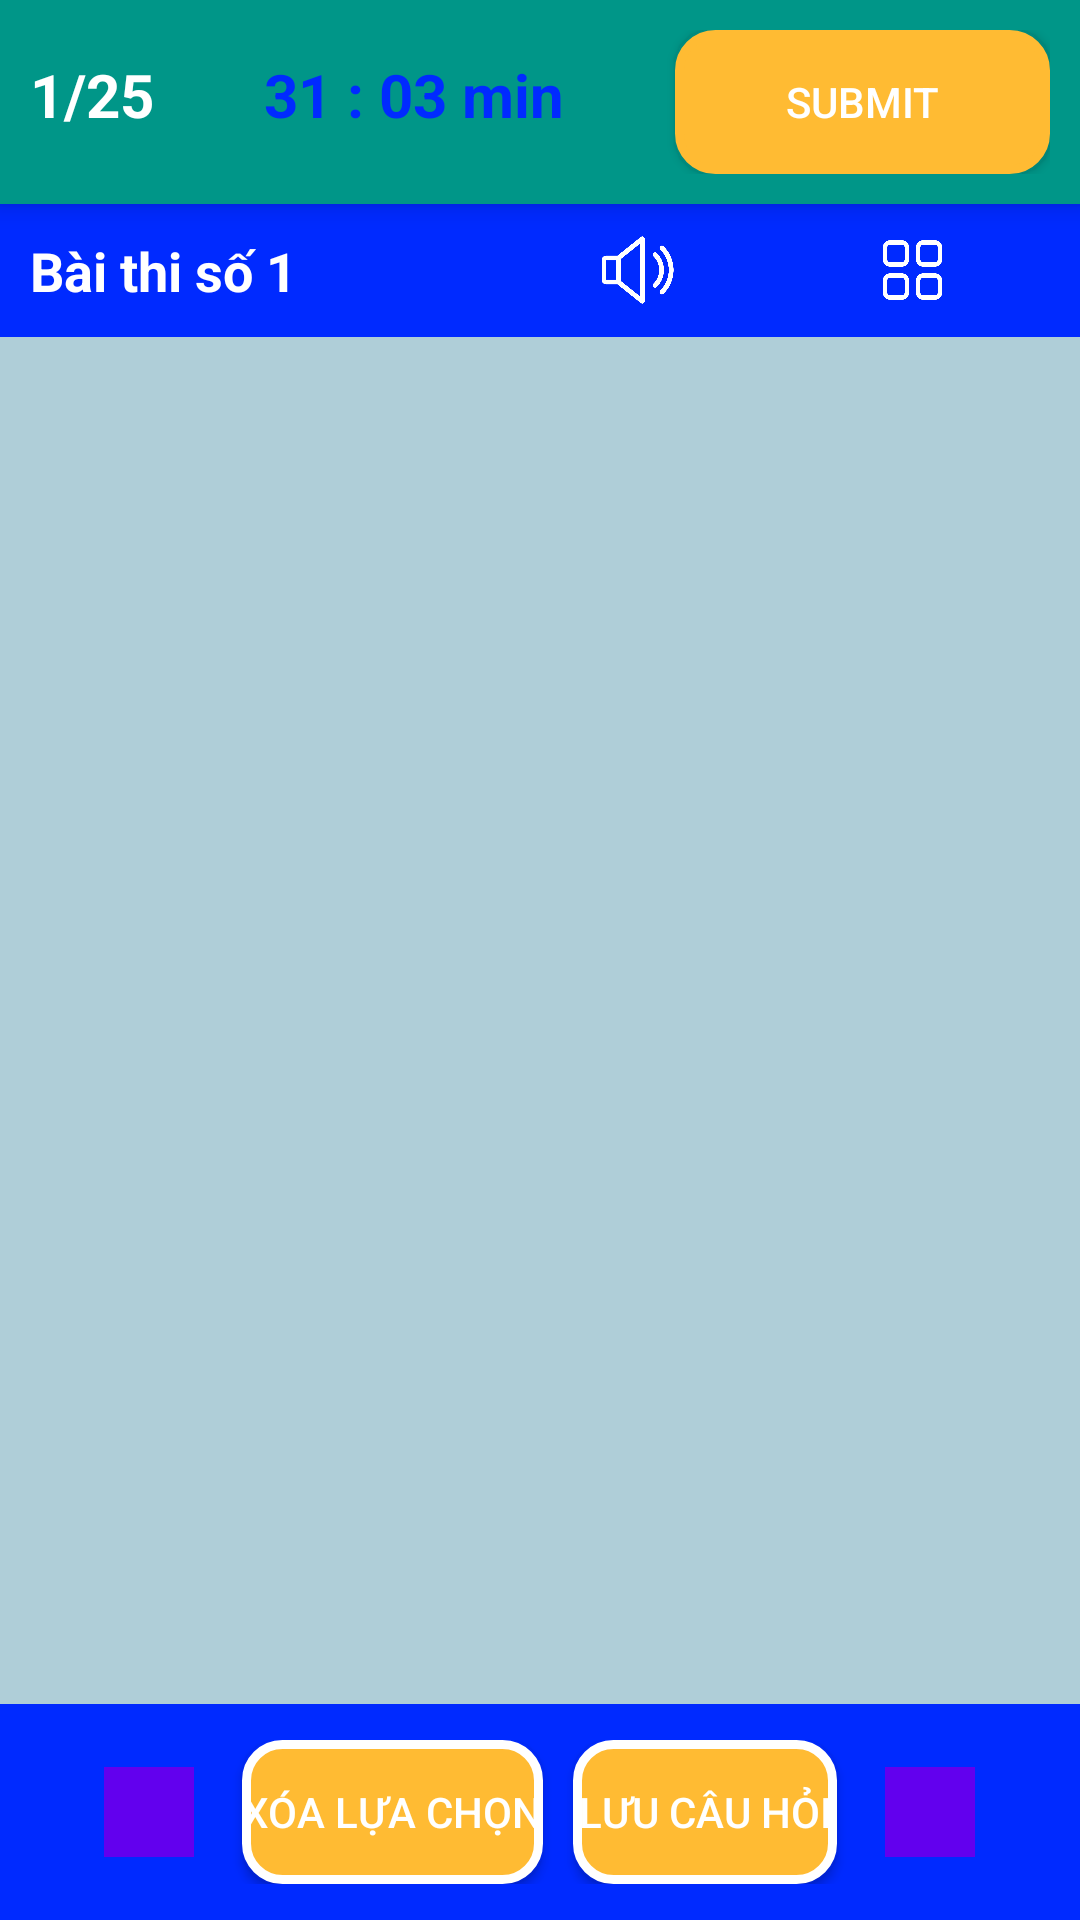

Screen size 1080w x 1920h. Icon name, then its center in pixels as (x=x, y=y):
not mute: (x=638, y=270)
